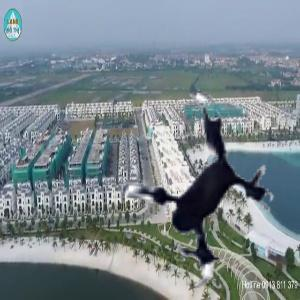drone: (78, 79, 300, 300)
